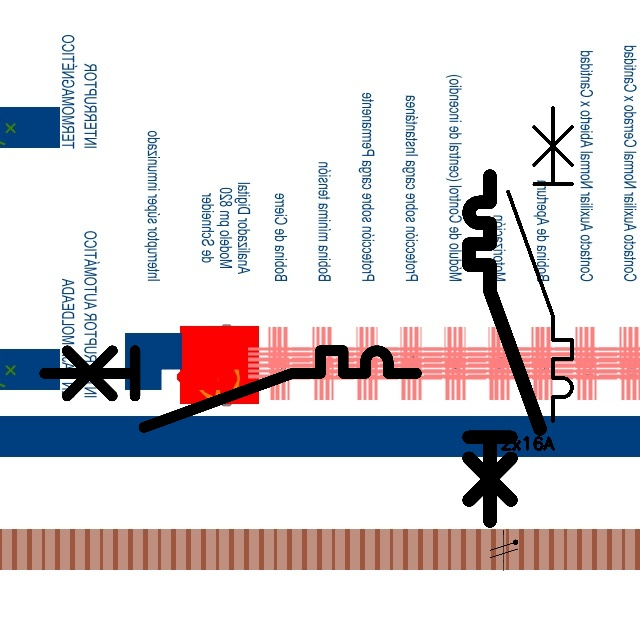interruptor_termomagnetico: (35, 341, 426, 437), (460, 167, 549, 530), (500, 100, 580, 429)
